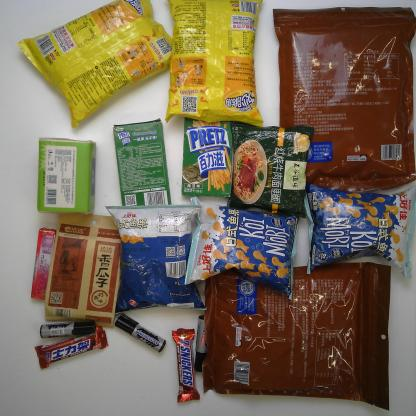Candy: (30, 228, 57, 300)
Chocolate: (34, 327, 110, 369), (169, 325, 200, 404)
Dessert: (112, 120, 173, 212), (178, 113, 236, 197)
Dried Food: (203, 260, 392, 410), (270, 9, 414, 190), (45, 212, 126, 329)
Instant Noodles: (228, 120, 315, 219)
Puffed Food: (19, 0, 176, 128), (165, 0, 261, 129), (184, 194, 298, 301), (104, 202, 207, 314), (301, 180, 413, 279)
Stationery: (114, 311, 165, 354), (195, 314, 214, 372), (38, 321, 98, 338)
Tissue: (35, 136, 96, 215)
